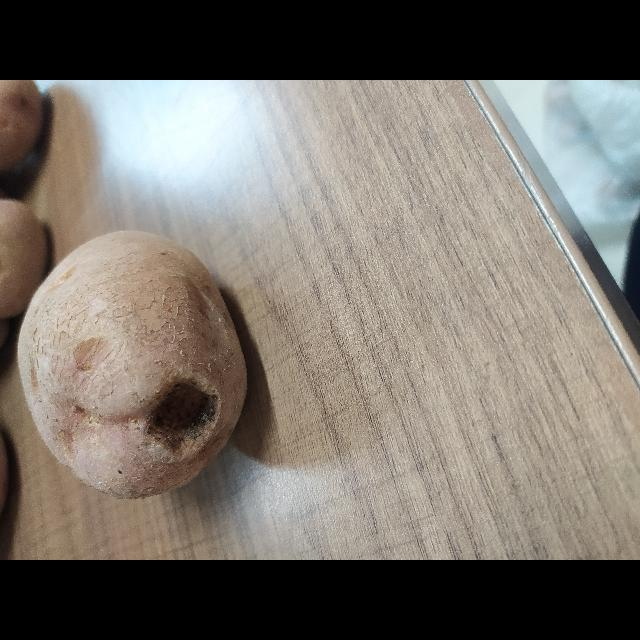Damaged potato: (56, 90, 338, 338)
